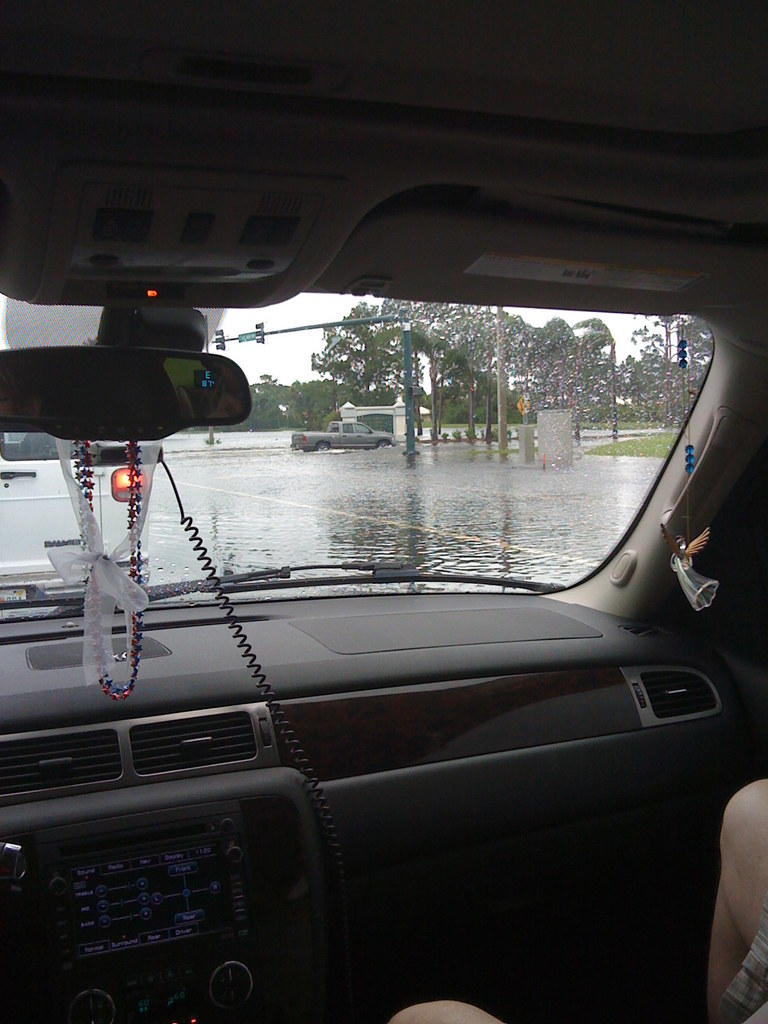mobil: (279, 402, 393, 453)
